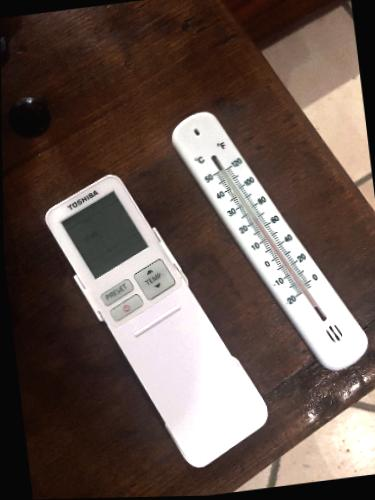thermo: (165, 103, 375, 379)
